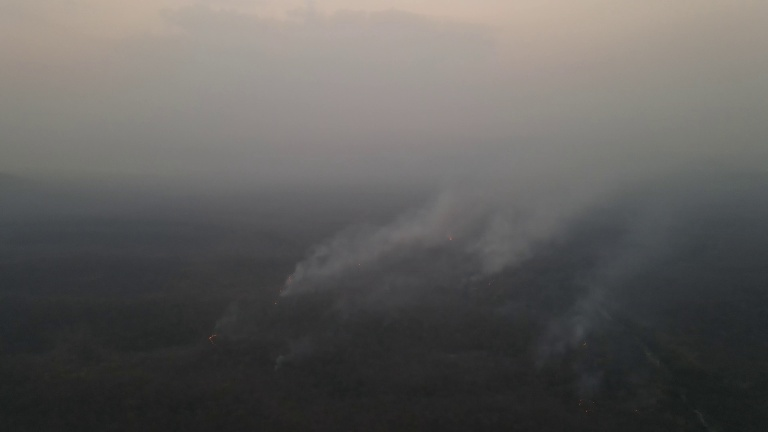fire: (274, 261, 305, 312), (577, 393, 598, 413), (205, 332, 220, 346), (579, 337, 590, 350), (446, 233, 456, 241)
smoke: (273, 152, 658, 364), (566, 371, 651, 419), (274, 335, 319, 378), (212, 299, 255, 343)
